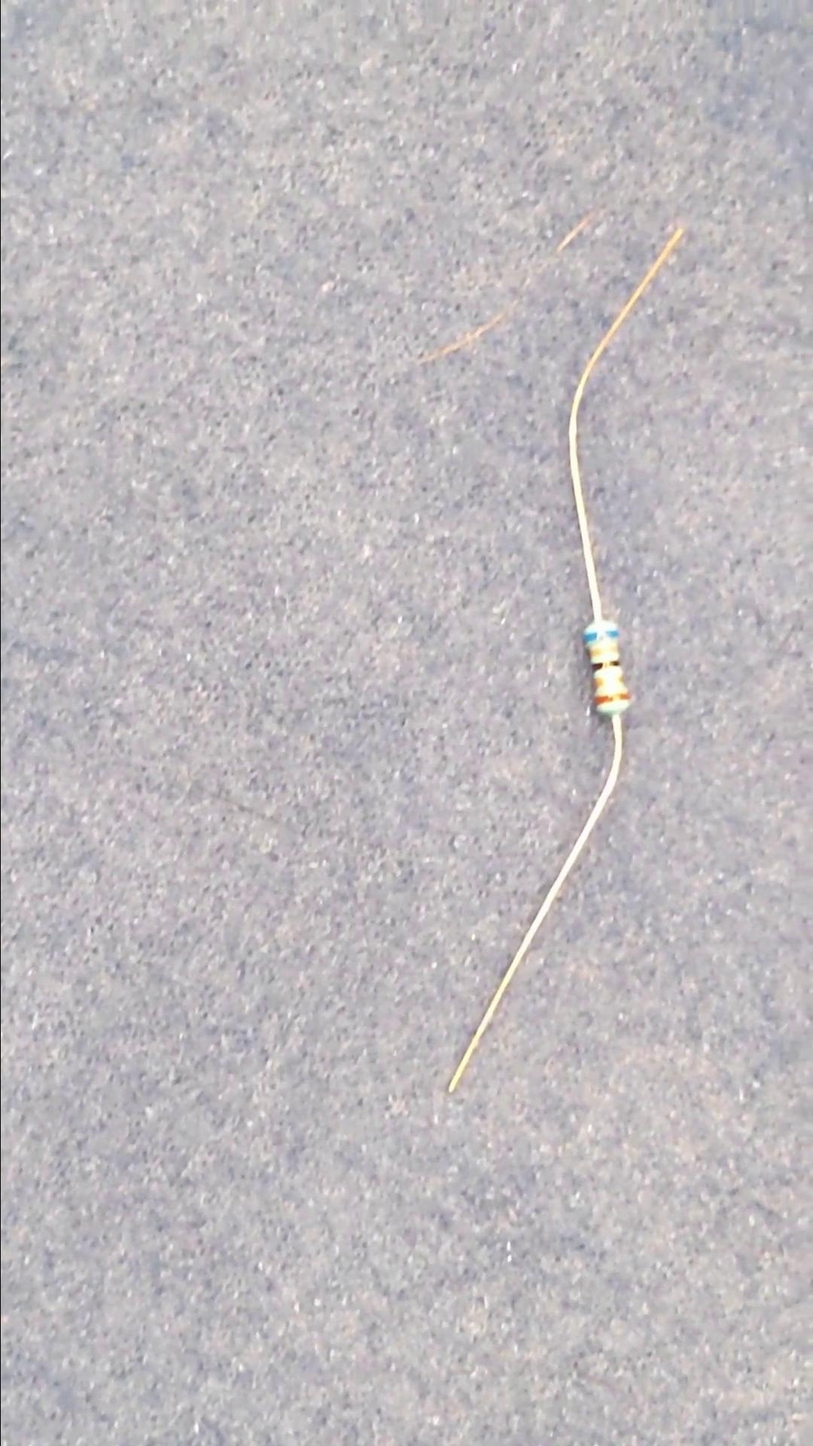resistor: (575, 612, 642, 723)
